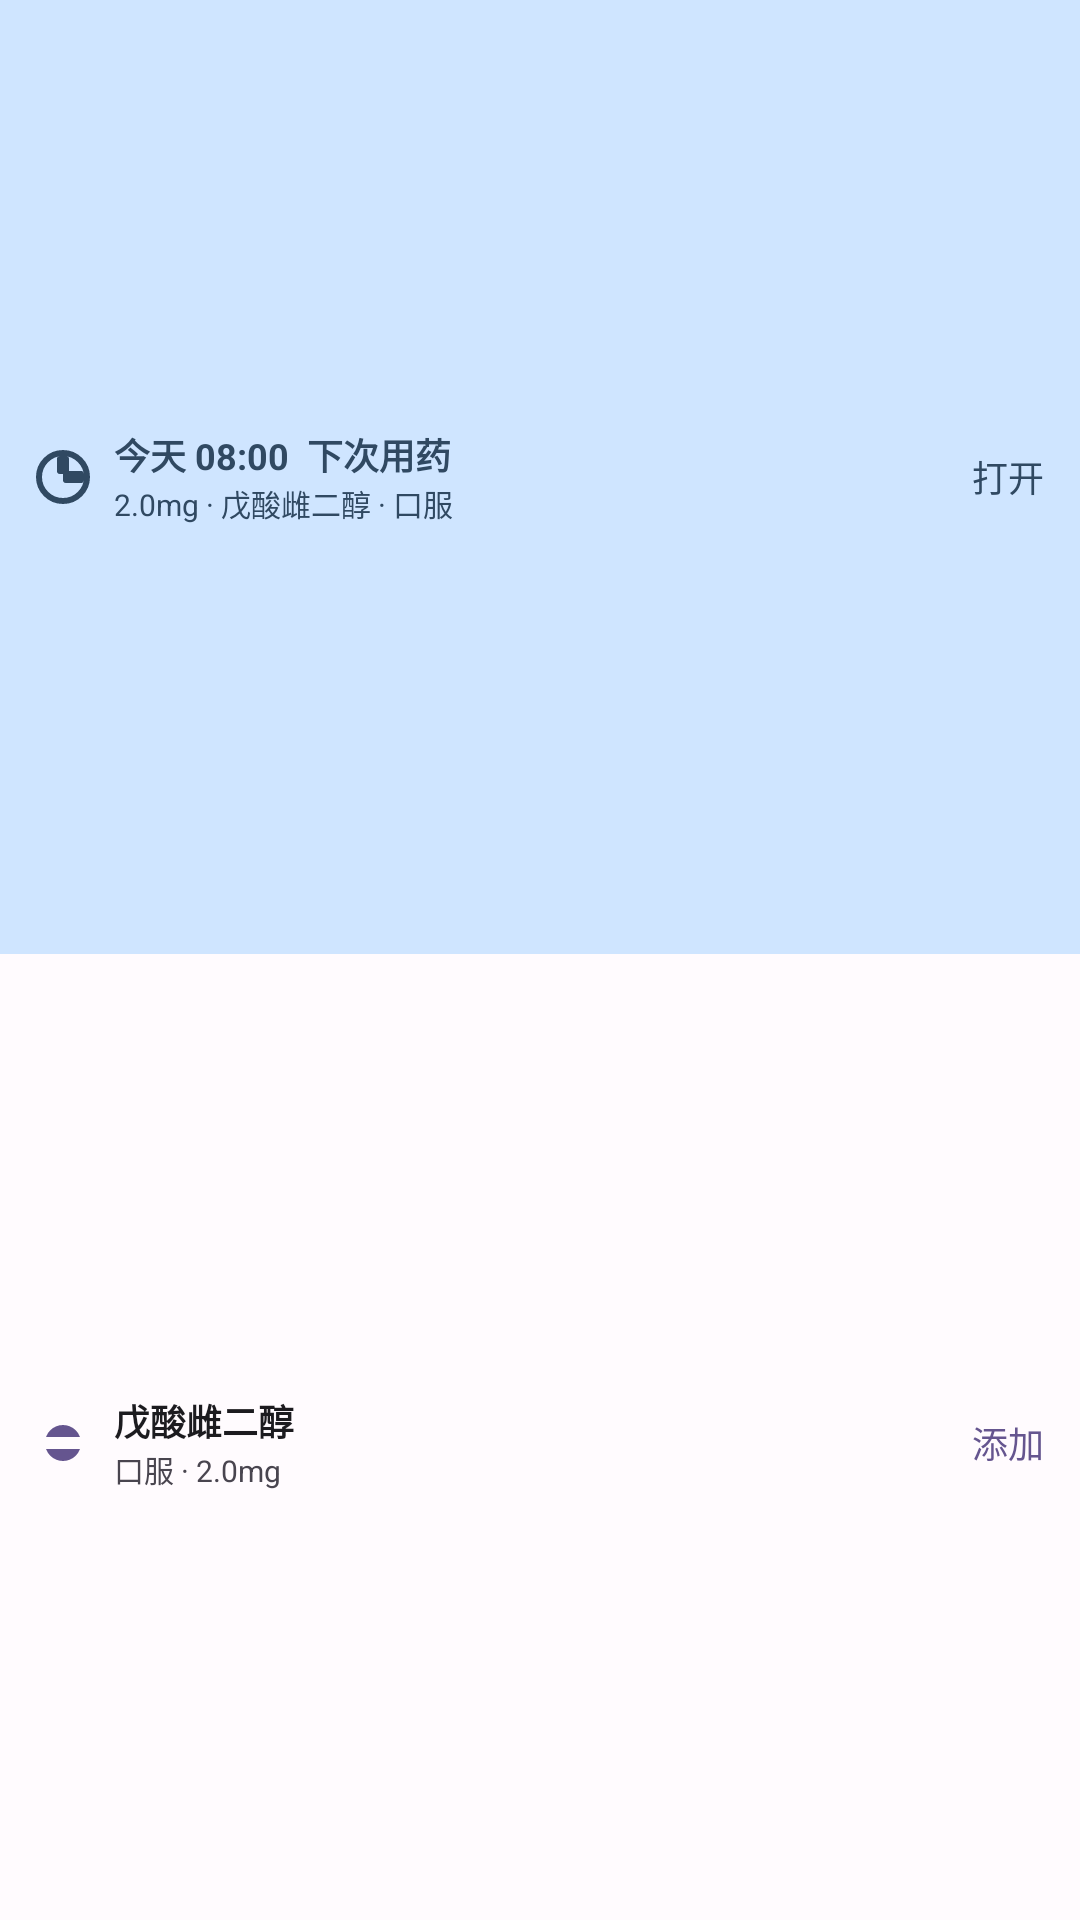

Named icons in this screenshot (1080w x 1920h) and their bounding boxes, (x1, y1, x2, y2):
widget alarm: (36, 450, 90, 504)
widget medication: (46, 1425, 80, 1461)
